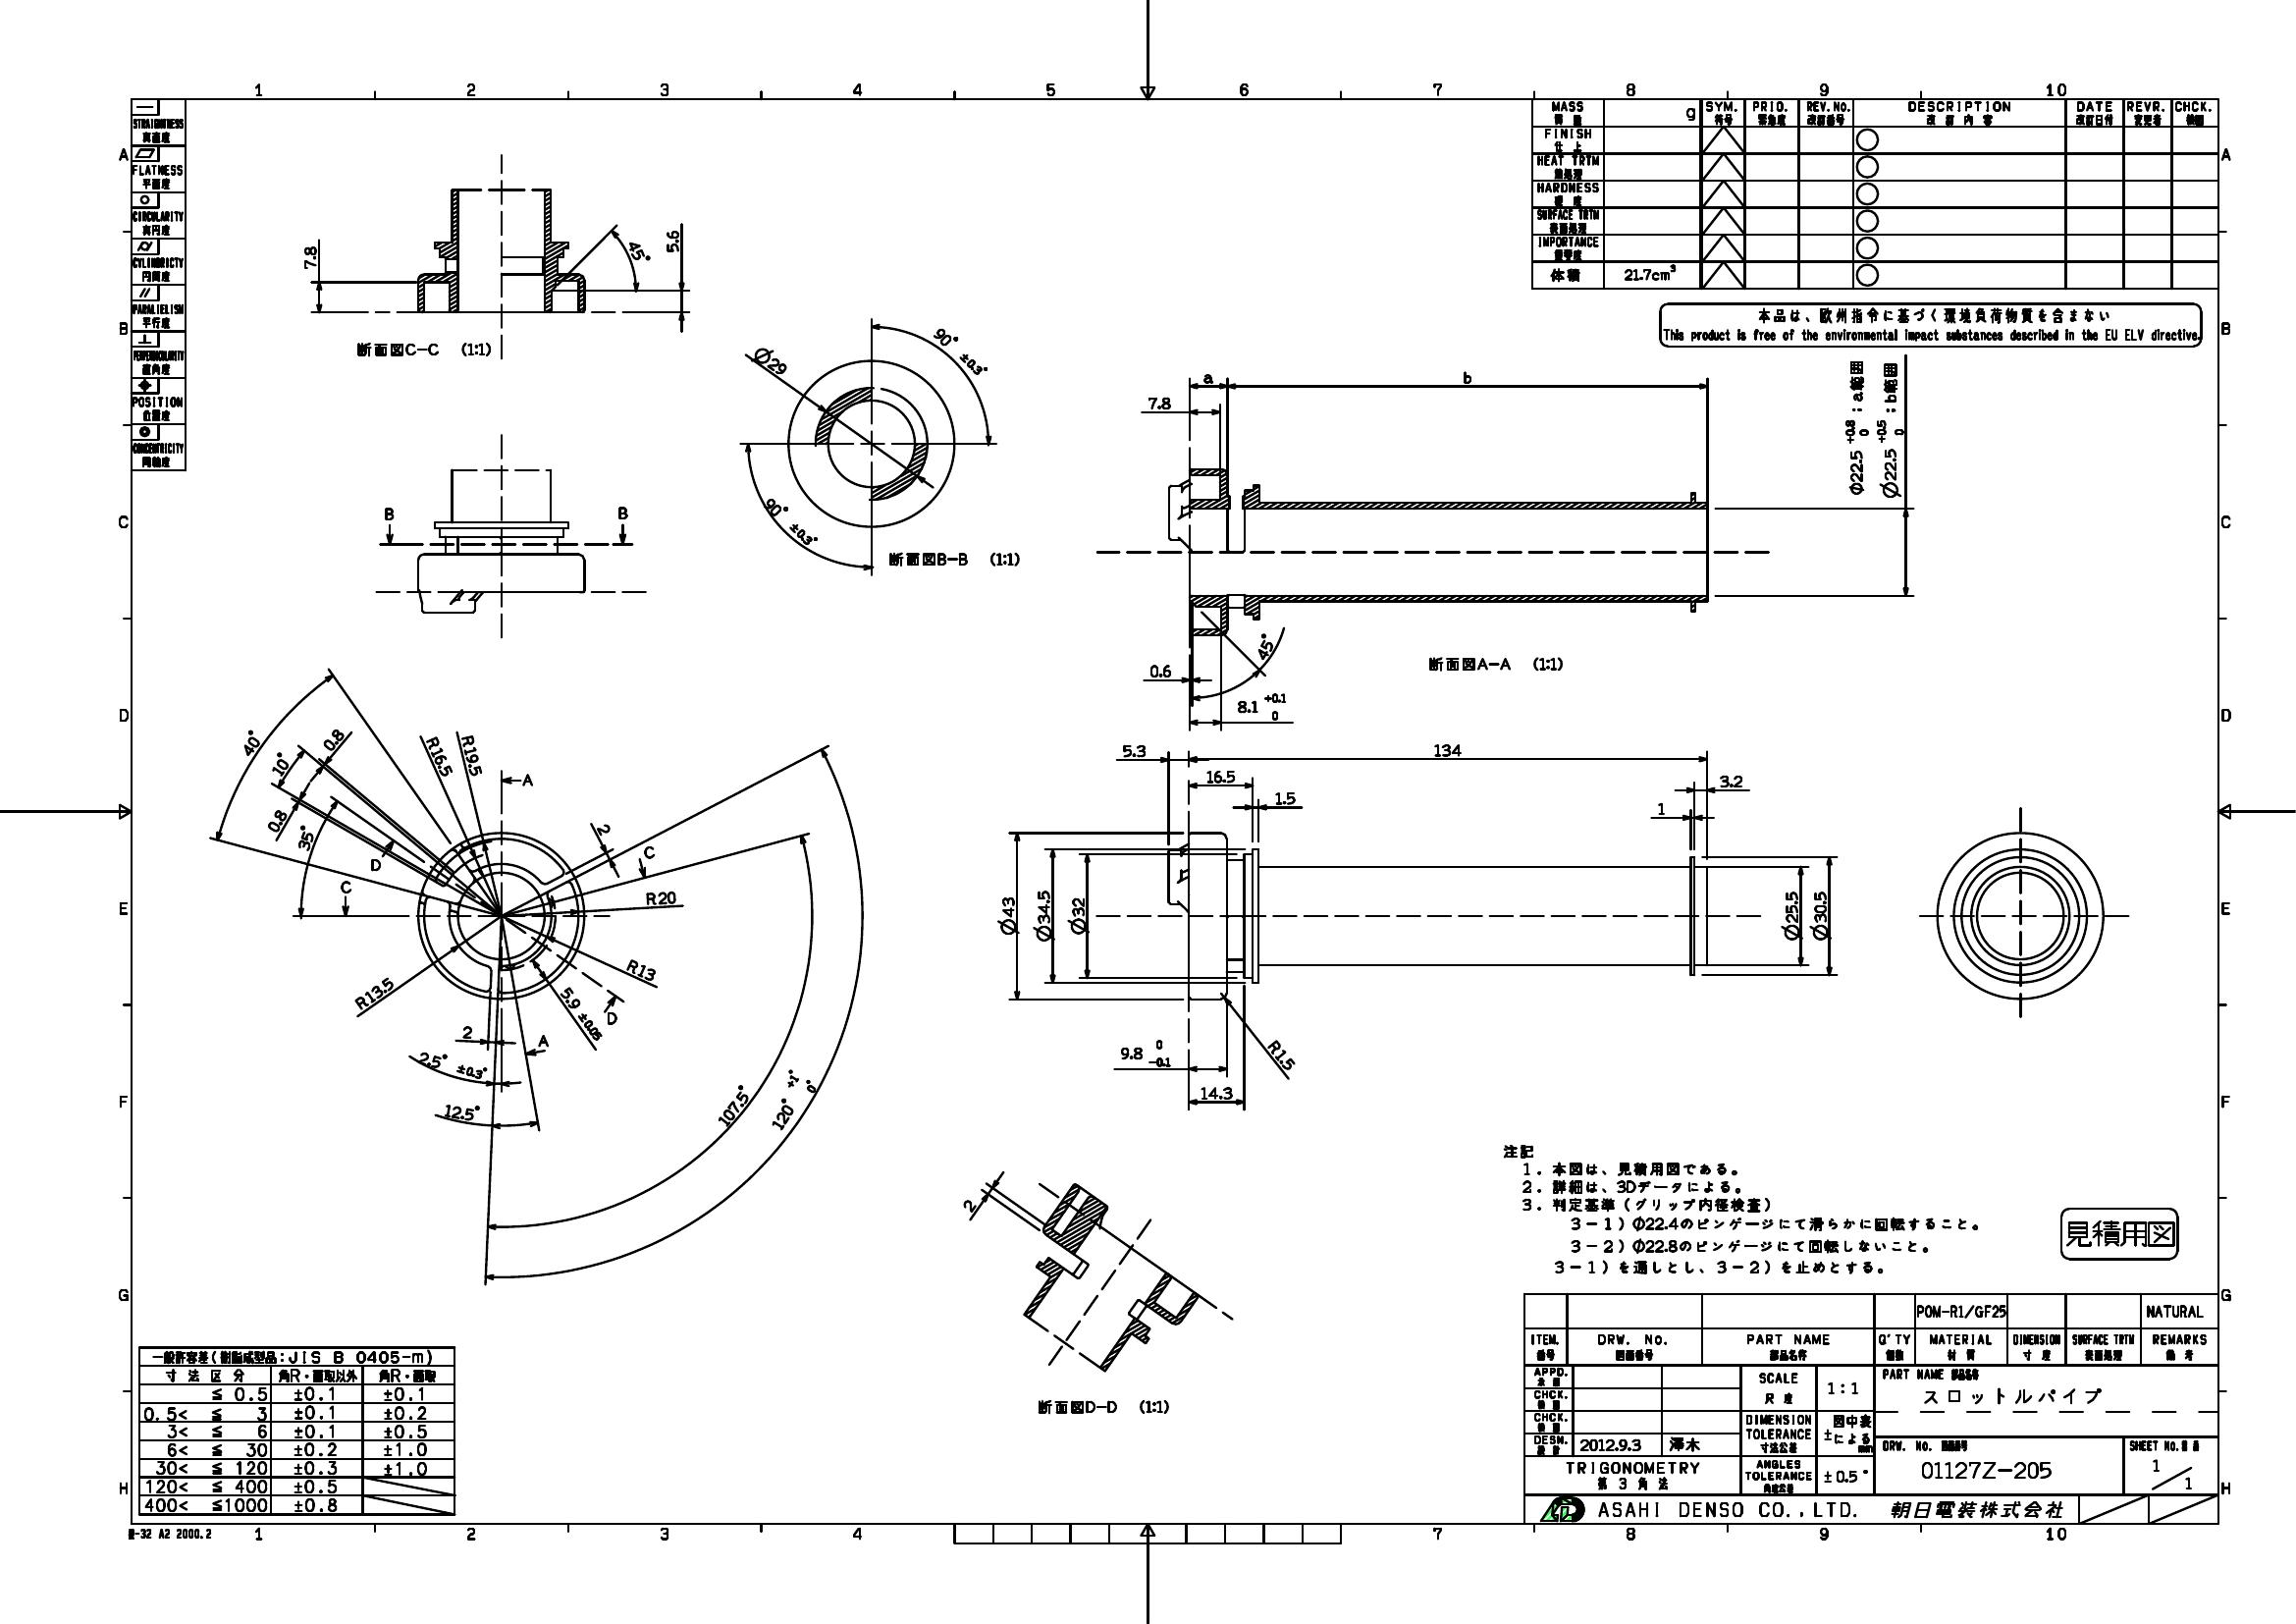anntotation_text: (1498, 1137, 1985, 1278), (1658, 302, 2201, 346), (2061, 1207, 2180, 1260), (353, 337, 497, 362), (1425, 652, 1567, 675), (885, 547, 1024, 569), (1036, 1394, 1175, 1413), (128, 1527, 216, 1541), (1878, 357, 1901, 406), (1846, 357, 1867, 406), (1456, 367, 1479, 383), (613, 499, 629, 522), (532, 1032, 550, 1048), (641, 842, 657, 859), (381, 499, 395, 518), (520, 772, 536, 787), (337, 877, 353, 893), (367, 854, 381, 872), (1200, 367, 1214, 383), (606, 1009, 618, 1025)
dimension_text: (1841, 415, 1871, 497), (1874, 415, 1903, 499), (757, 1084, 817, 1118), (1237, 689, 1296, 719), (1117, 1037, 1172, 1069), (921, 341, 1000, 360), (755, 513, 824, 531), (416, 1058, 488, 1074), (1809, 888, 1829, 942), (1031, 888, 1051, 940), (754, 348, 796, 371), (552, 1007, 613, 1021), (1780, 889, 1797, 939), (418, 747, 462, 765), (451, 747, 495, 765), (998, 893, 1015, 935), (1066, 893, 1084, 935), (351, 984, 395, 1000), (711, 1098, 755, 1114), (1196, 1083, 1233, 1100), (1263, 1044, 1298, 1062), (443, 1102, 480, 1118), (645, 889, 680, 905), (622, 960, 657, 975), (292, 828, 318, 847), (629, 237, 648, 264), (1432, 742, 1463, 758), (1249, 636, 1279, 652), (1203, 768, 1237, 782), (267, 754, 293, 772), (1147, 659, 1173, 677), (662, 225, 678, 253), (1147, 390, 1170, 410), (1716, 773, 1746, 787), (320, 731, 346, 747), (264, 810, 290, 826), (239, 735, 265, 750), (1121, 743, 1149, 758), (1272, 791, 1296, 805), (302, 244, 316, 269), (458, 1023, 476, 1040), (597, 821, 615, 837), (1655, 801, 1669, 816)
object: (1166, 468, 1709, 636), (1166, 833, 1706, 1000), (1021, 1181, 1200, 1371), (1938, 831, 2103, 1000), (791, 362, 956, 527), (418, 833, 583, 998), (416, 469, 587, 612), (418, 188, 583, 313)
title_block: (1523, 1294, 2219, 1526), (1530, 97, 2219, 290), (139, 1346, 455, 1513), (130, 100, 186, 471)
